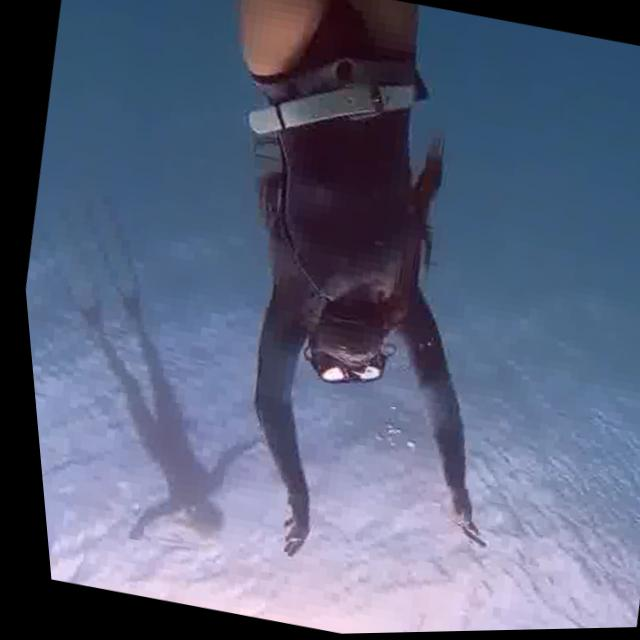human: (108, 0, 598, 612), (21, 266, 287, 579)
